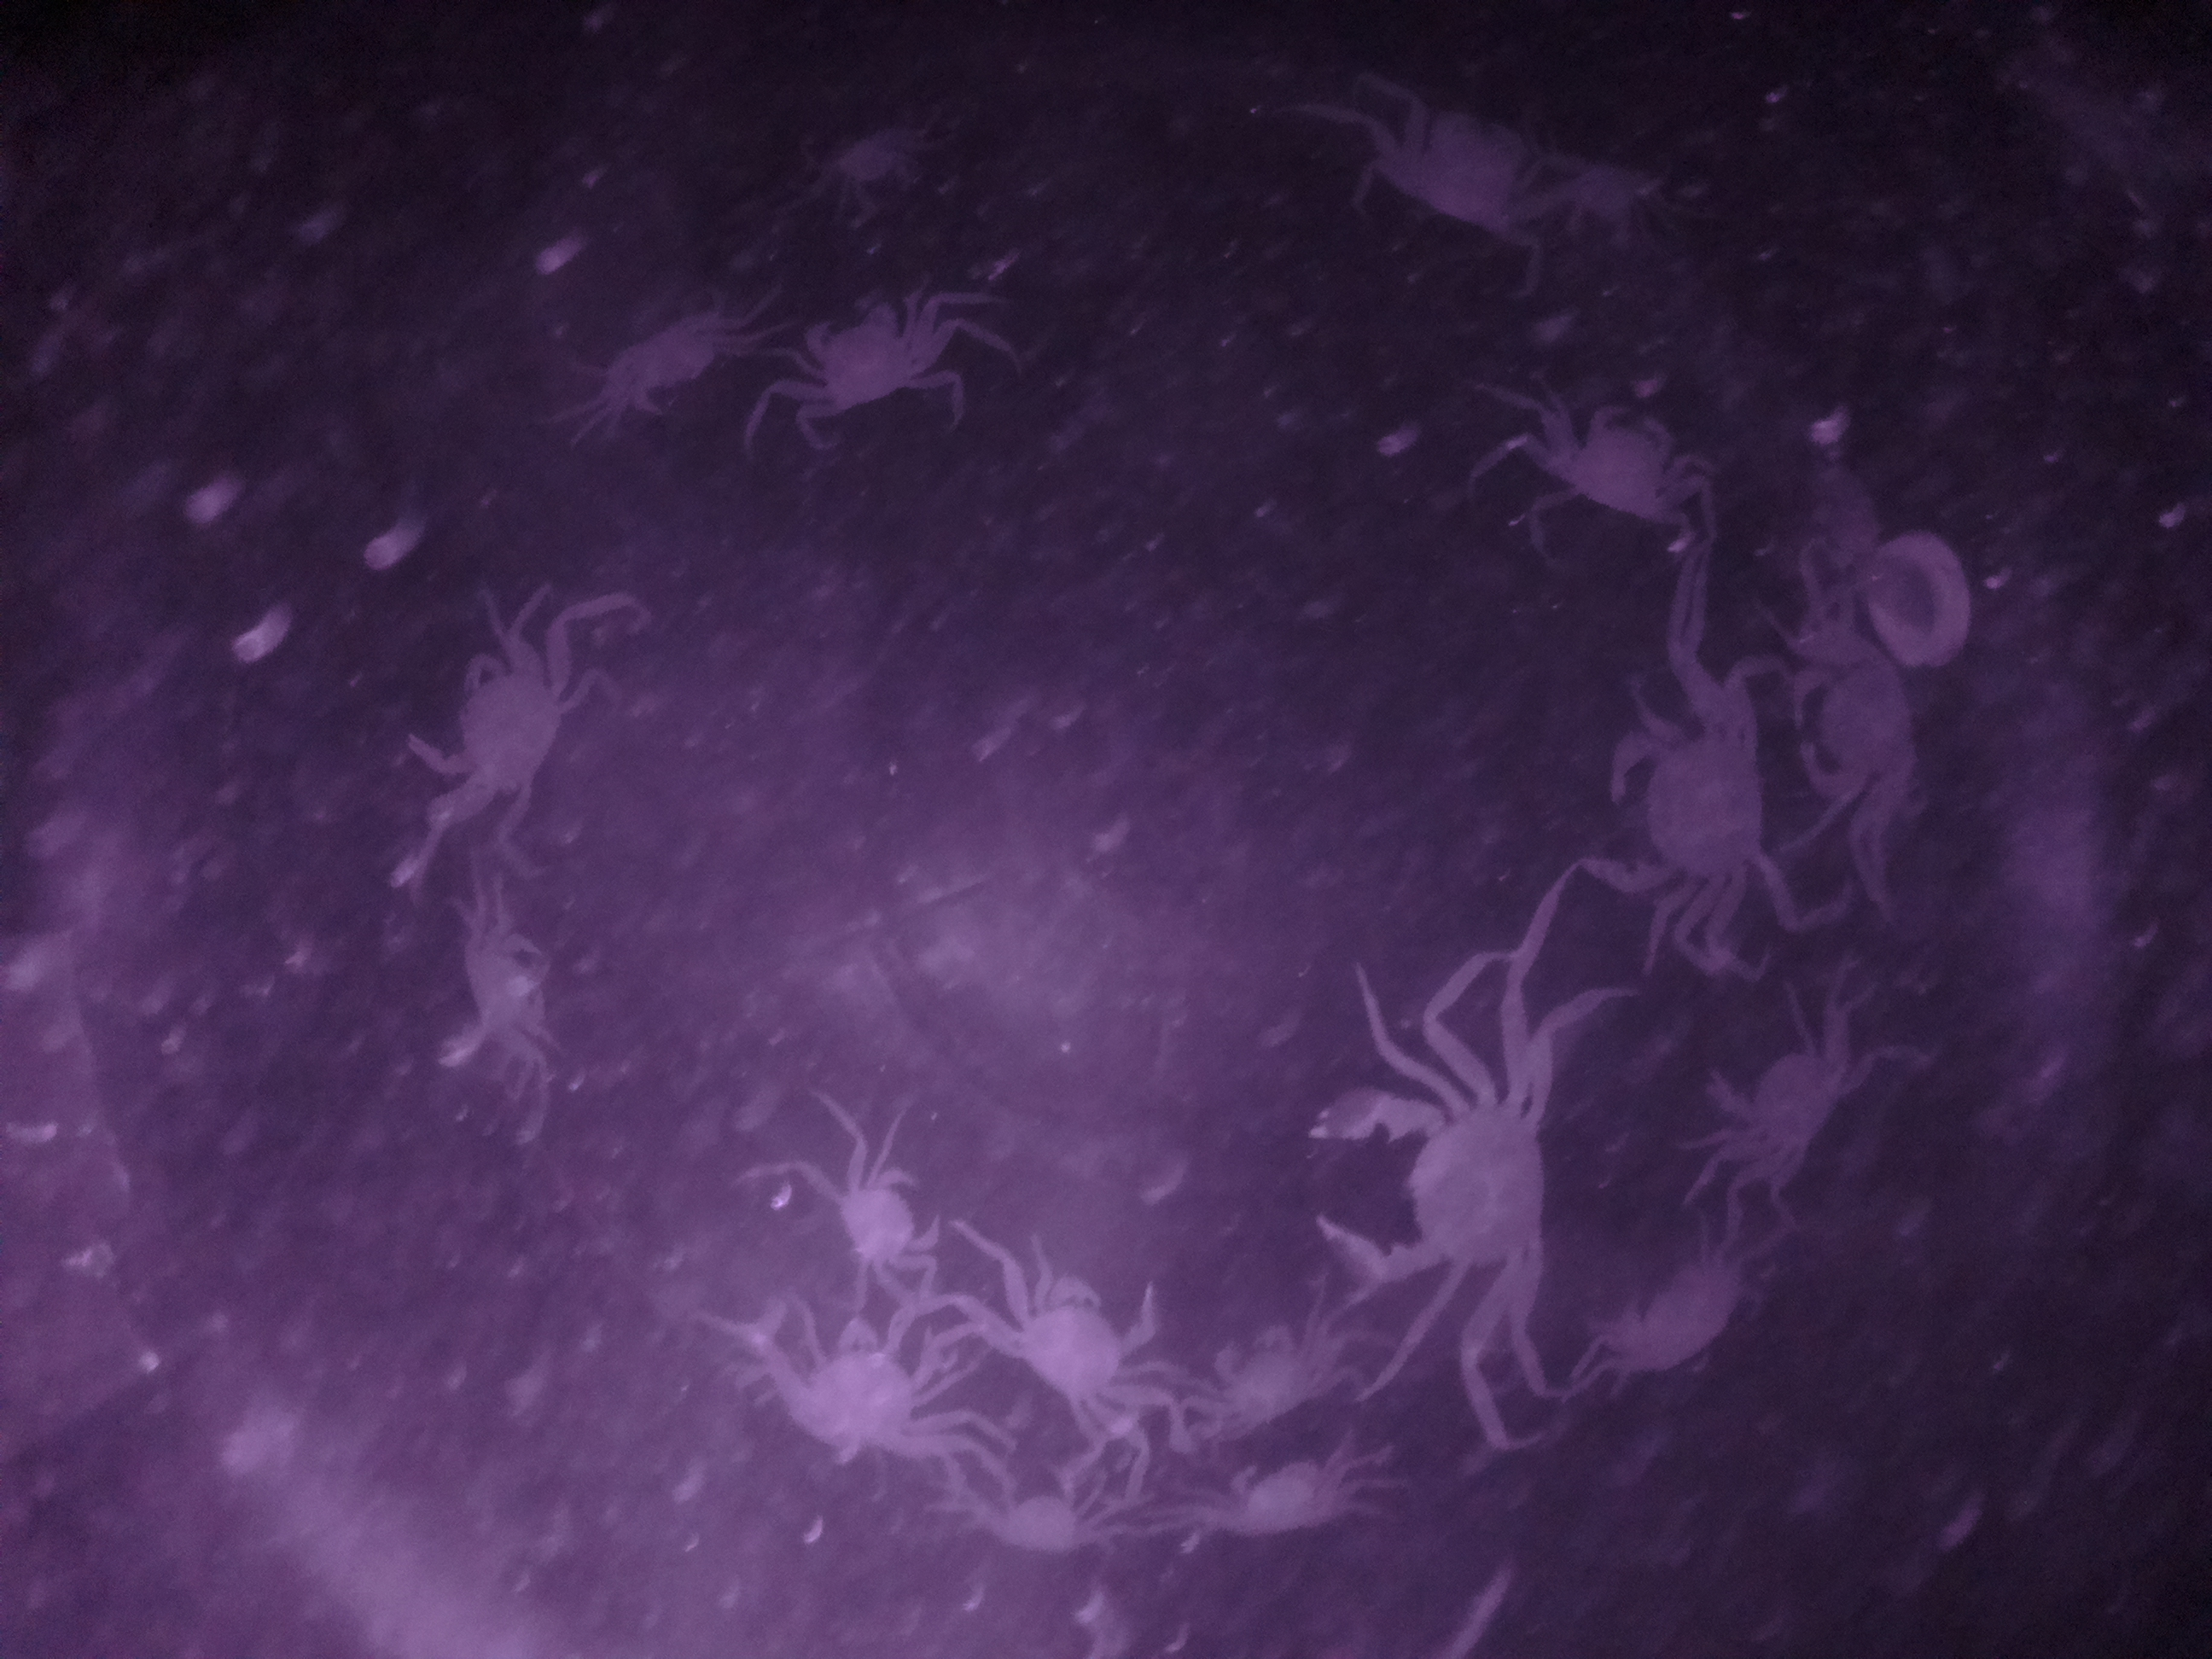Crab: (1294, 1080, 1571, 1307), (1575, 678, 1773, 917), (397, 619, 592, 826), (1695, 997, 1865, 1208), (988, 1251, 1181, 1432), (1787, 619, 1952, 802), (1536, 392, 1695, 538), (779, 288, 954, 418), (1181, 1310, 1338, 1441), (819, 1140, 956, 1288)
